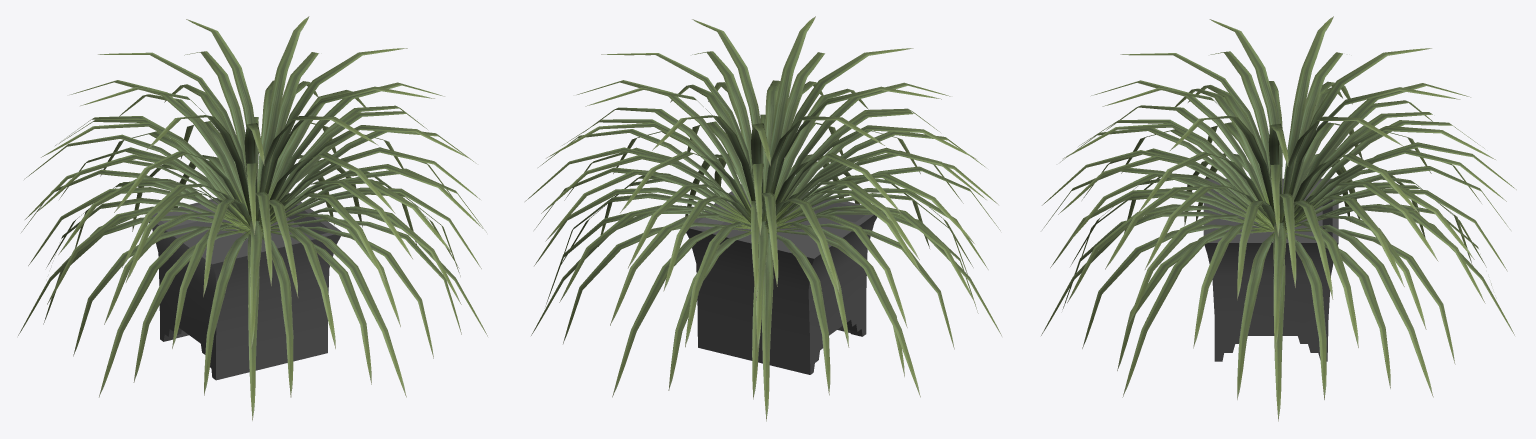
File: Small_Plant.fbx
The picture shows the model from 3 angles, left to right: view 1: azimuth 30°, elevation 25°; view 2: azimuth 150°, elevation 25°; view 3: azimuth 270°, elevation 25°; orthographic projection.
Visible parts, largest first — view 1: Small_Plant; view 2: Small_Plant; view 3: Small_Plant.
Part boxes in pixels (x1=…): Small_Plant: x1=18, y1=16, x2=487, y2=420; Small_Plant: x1=525, y1=16, x2=1001, y2=421; Small_Plant: x1=1041, y1=16, x2=1516, y2=421.
Bounding box in the file's own units: 62.61 × 37.3 × 62.59.
